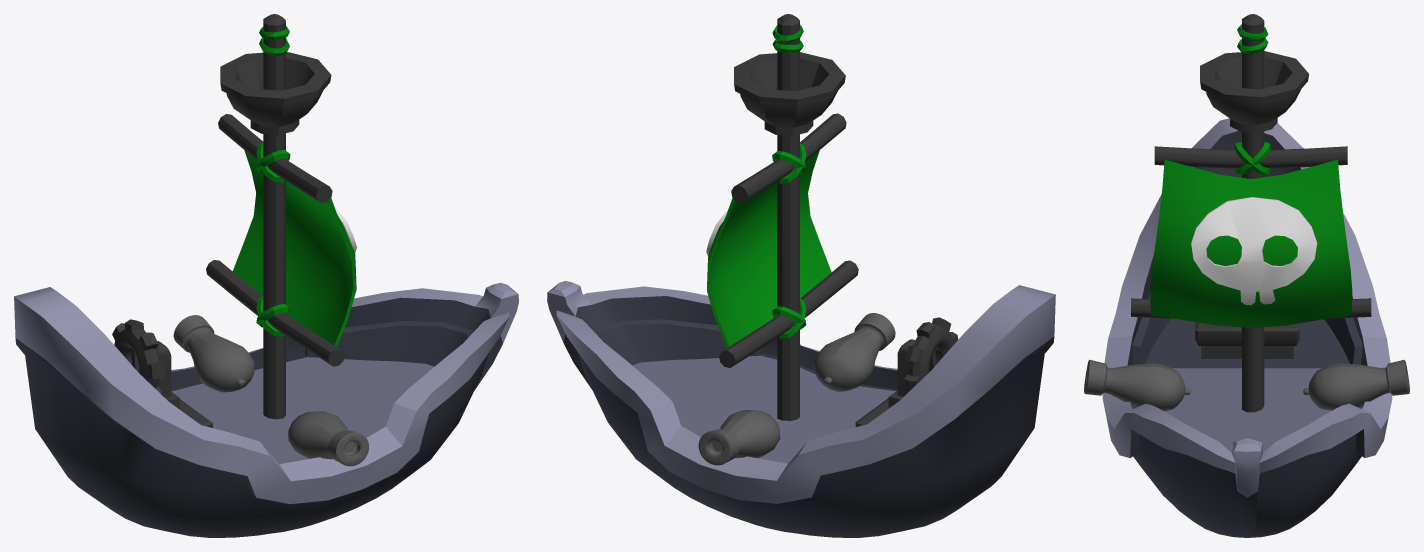
Rendered from nave nemica verde corretta.fbx.
3 views of the same model, side by side, from view 1: azimuth 30°, elevation 25°; view 2: azimuth 150°, elevation 25°; view 3: azimuth 270°, elevation 25° (orthographic). The views are drawn at different scales.
Parts seen in each view (by area): view 1: nave nemica.010; view 2: nave nemica.010; view 3: nave nemica.010.
Boxes of the visible parts, left/top/right/bottom form: nave nemica.010: left=14, top=14, right=518, bottom=537; nave nemica.010: left=547, top=14, right=1055, bottom=537; nave nemica.010: left=1084, top=14, right=1409, bottom=537.
Size of the model in its own units: 1323 by 1275 by 776.
